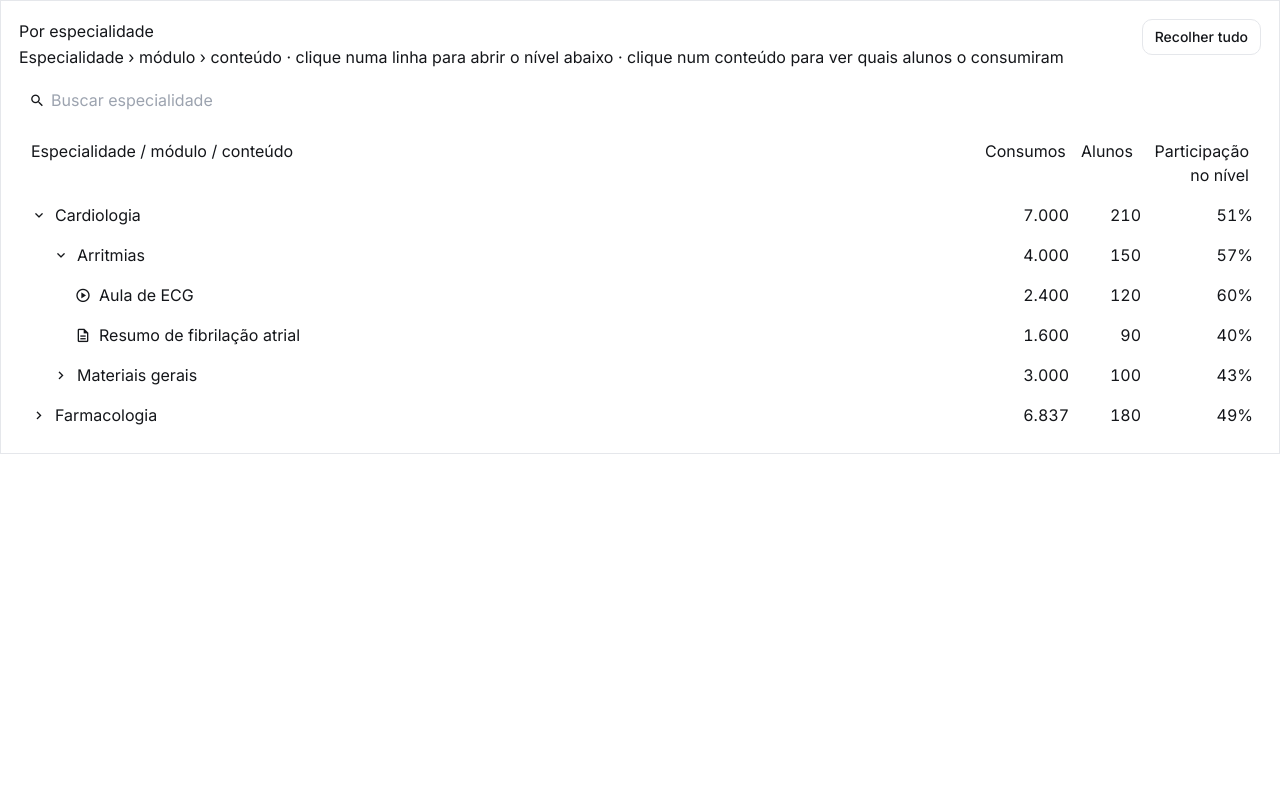
it: AlunosDoConteudoDialog (§12.4) › carregando e erro
Click the button with aria-label "Ver alunos que consumiram Aula de ECG".
click(146, 295)  # box [99,283,194,307]
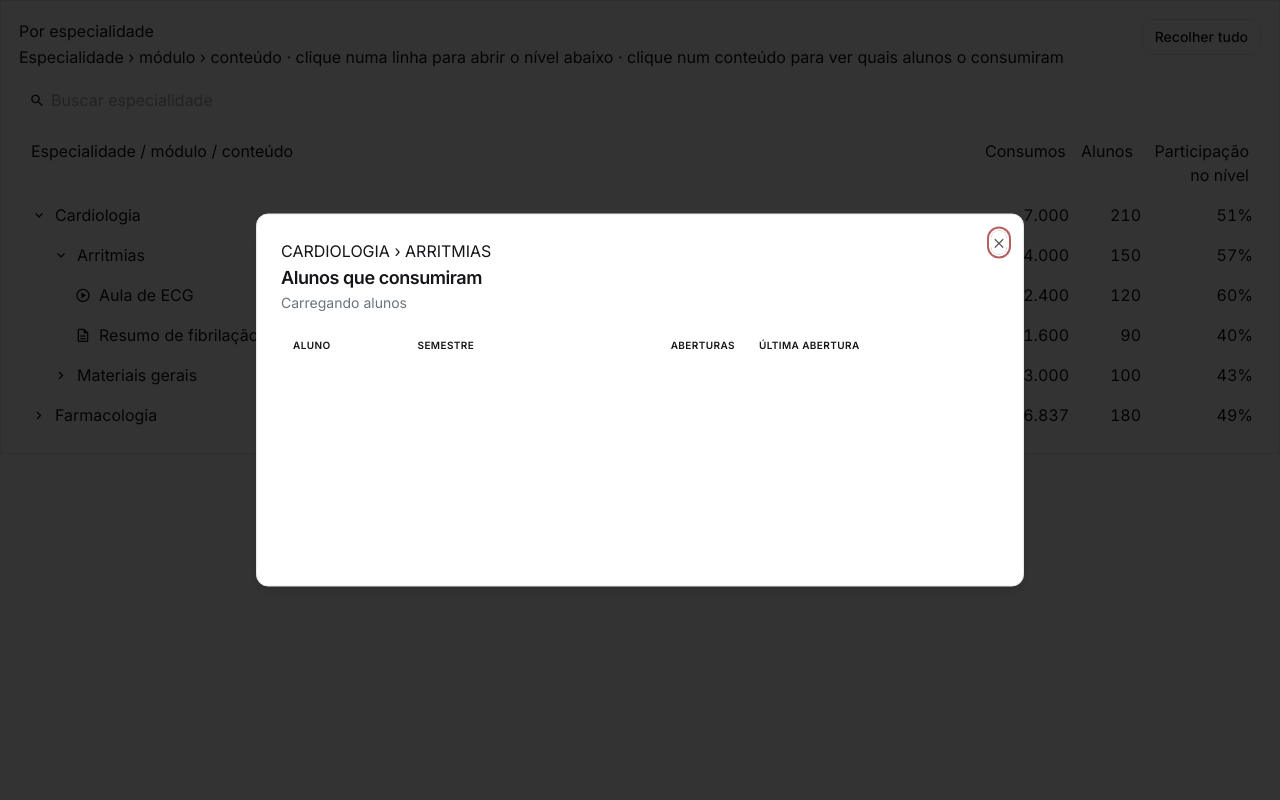
Check: the text "Carregando alunos" is shown, box [281,294,407,310]
